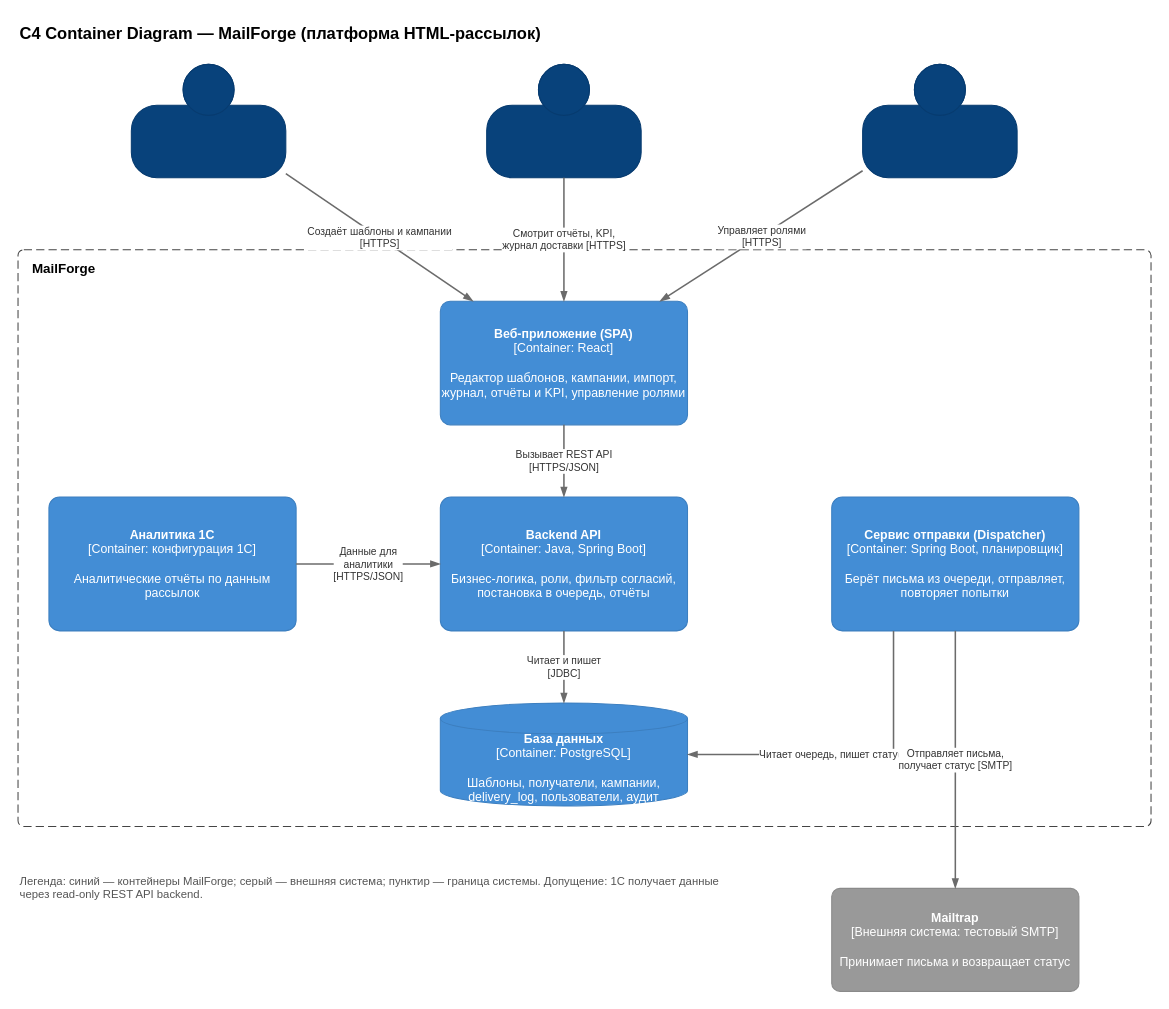
Some shapes in this 1169 by 1009 pixel diagram are drawn without their labels. The shapes that lost their labels are listed below. From the top down, each one's centre as x and y in pixels, then its label:
At [208,120]: "Маркетолог [Пользователь]".
At [563,120]: "Аналитик [Пользователь]".
At [939,120]: "Администратор [Пользователь]".
